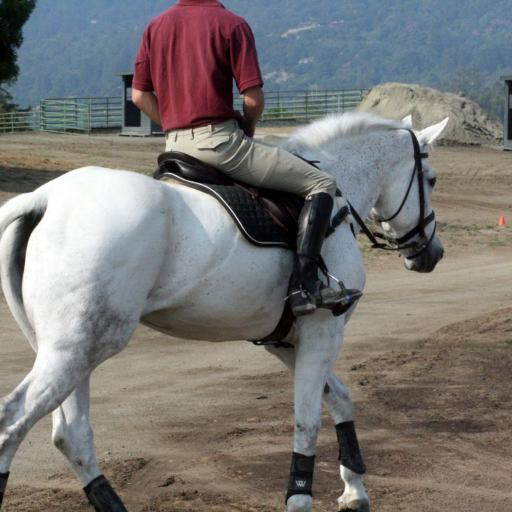horse: (0, 107, 448, 511)
